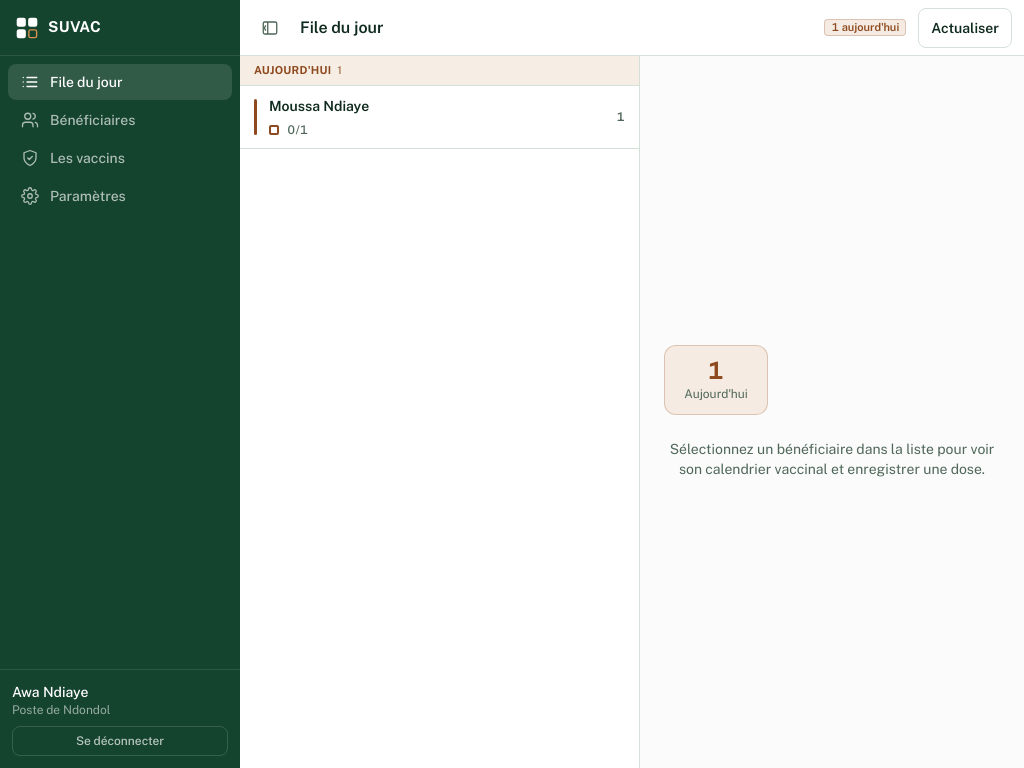
Test: FileDuJour › ouvre le formulaire de saisie
Click the text "Moussa Ndiaye" at [319, 106], box [269, 96, 369, 116]
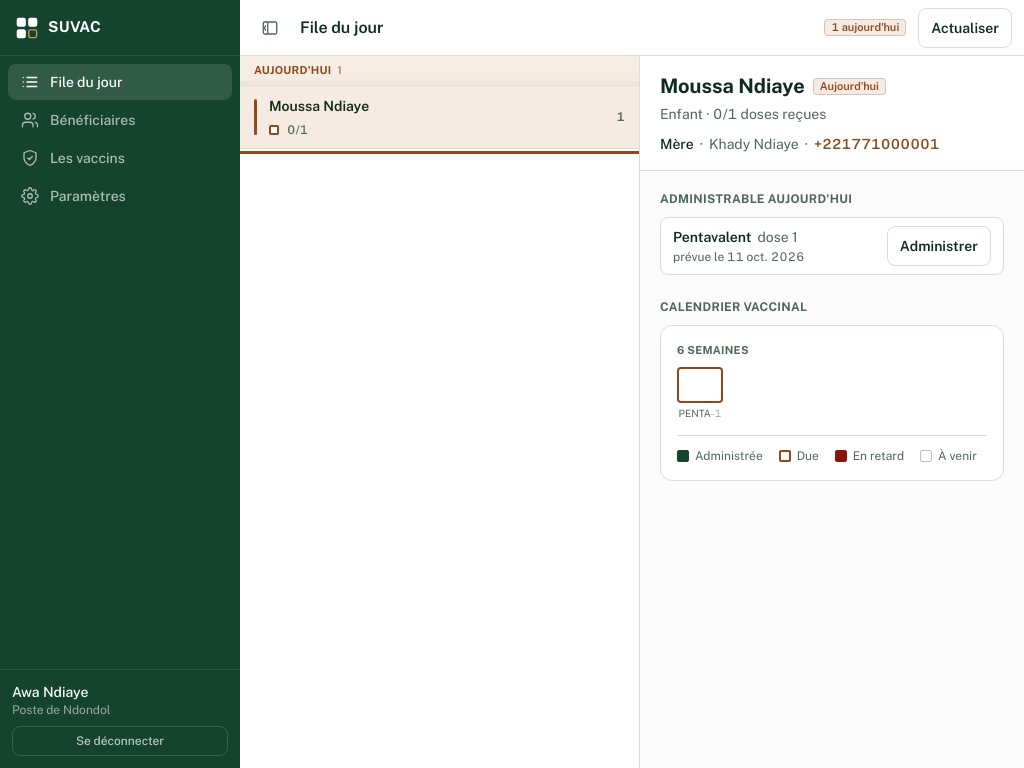
Click the button "Administrer" at [939, 246], box [887, 226, 991, 266]
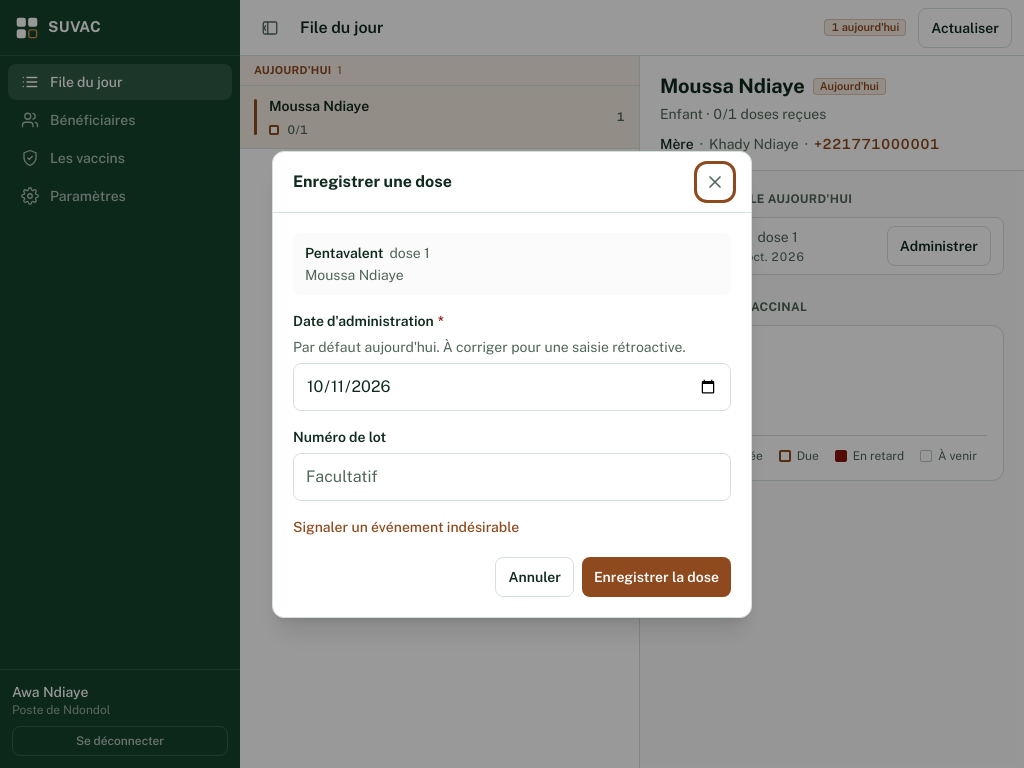
Expected: the heading "Enregistrer une dose" is shown, [293, 170, 452, 194]
